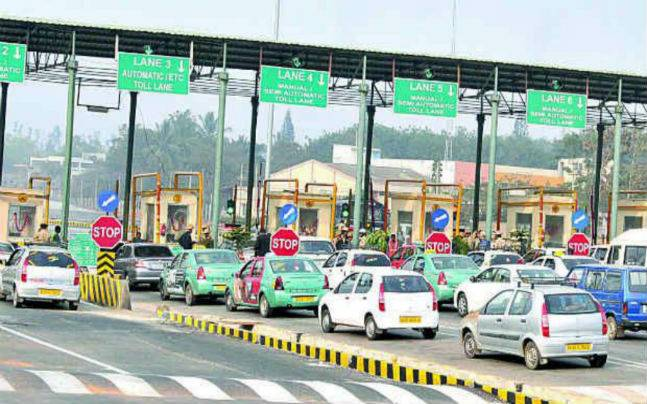toll plaza: (60, 3, 633, 245)
